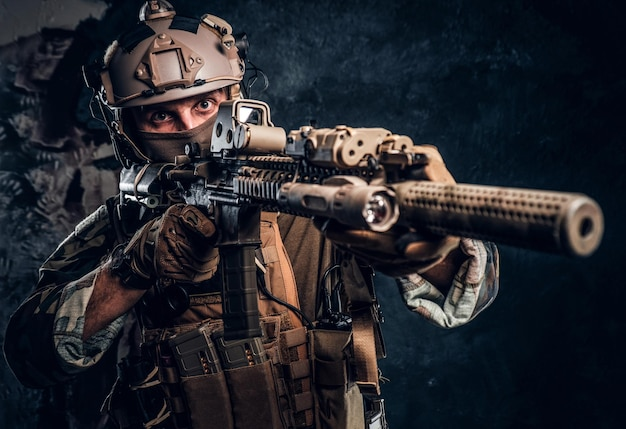gun: (116, 98, 604, 341)
